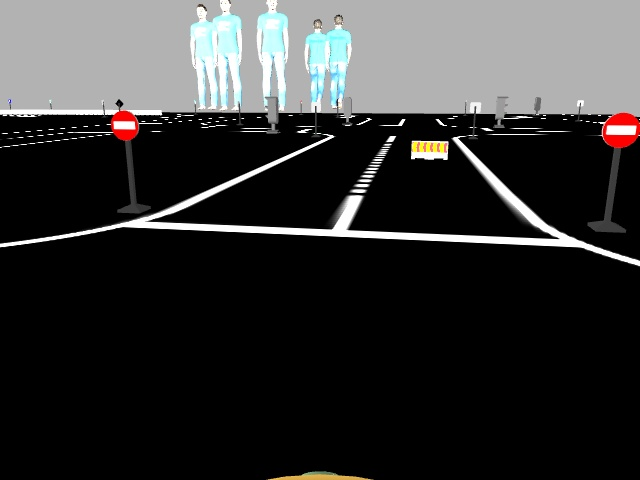ClosedRoadStand: (410, 140, 446, 158)
NoEntry: (602, 113, 638, 146), (110, 112, 139, 138)
